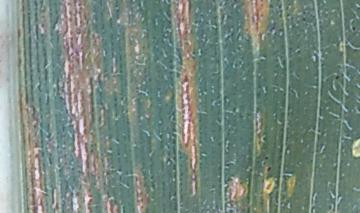tarspot: (335, 73, 342, 82), (350, 24, 358, 31), (263, 153, 270, 160), (266, 165, 272, 173)
